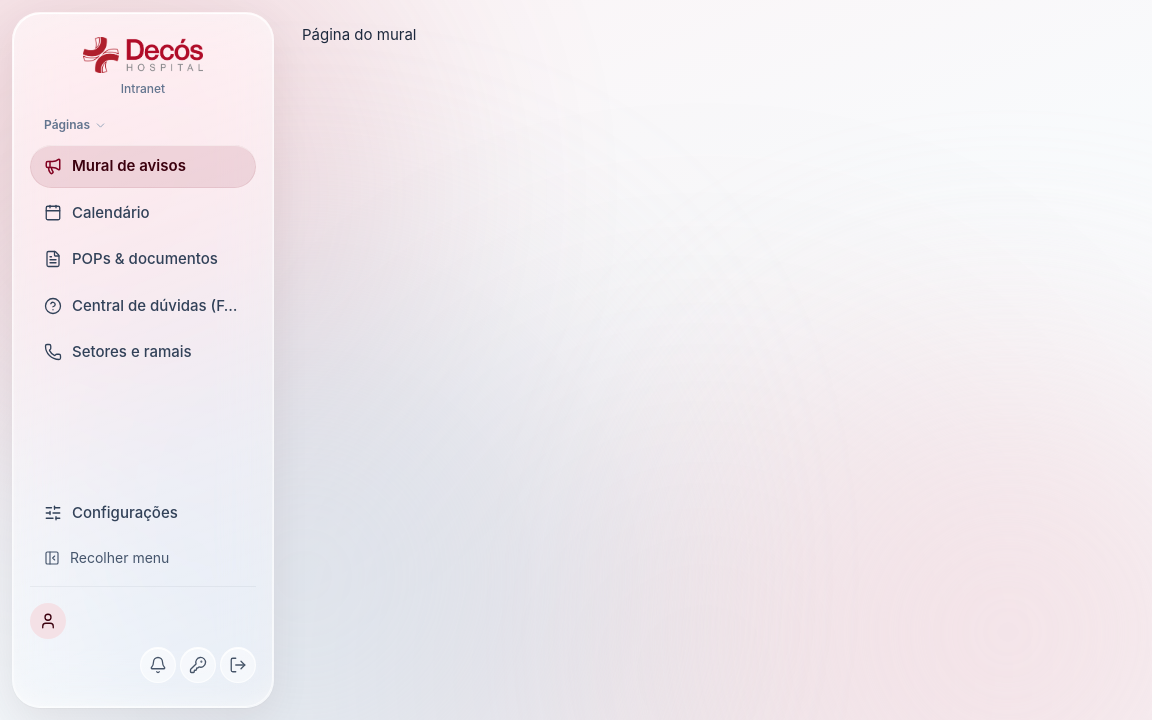
it: GER-17 — transição entre páginas › o menu lateral não é remontado e o indicador vai para o item da nova página
Click the button titled "Recolher menu" at (143, 558), box left=30, top=538, right=256, bottom=578
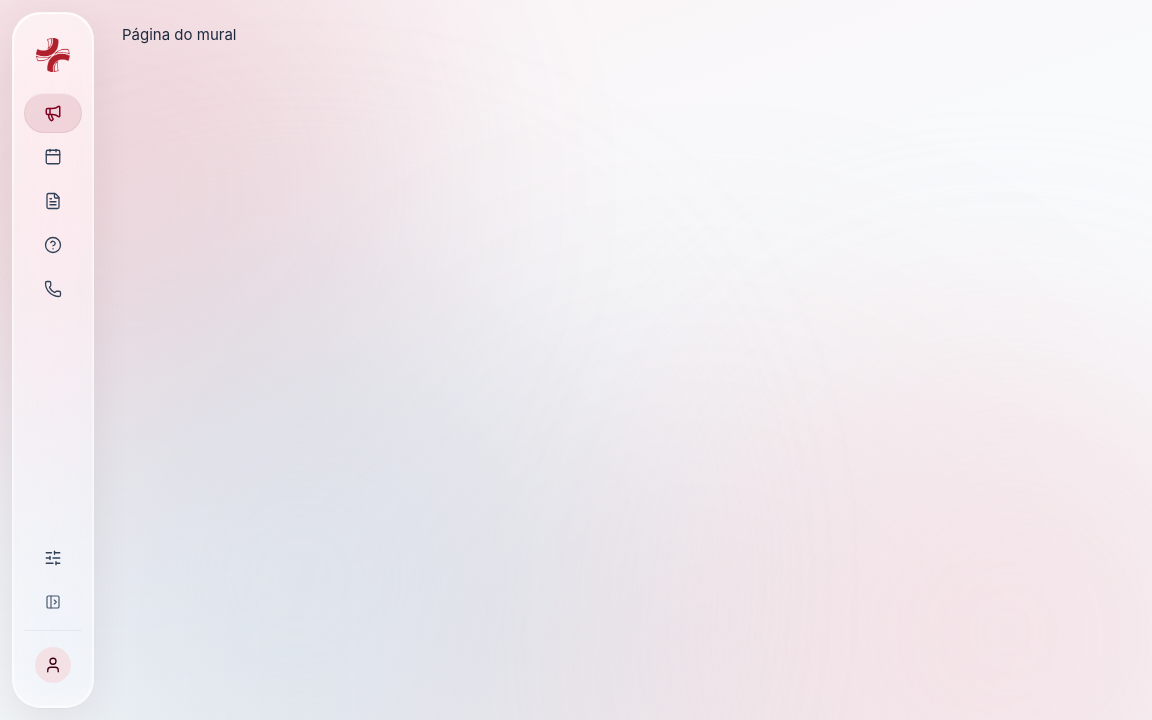
Click the link titled "POPs & documentos" at (53, 201), box left=44, top=192, right=62, bottom=210
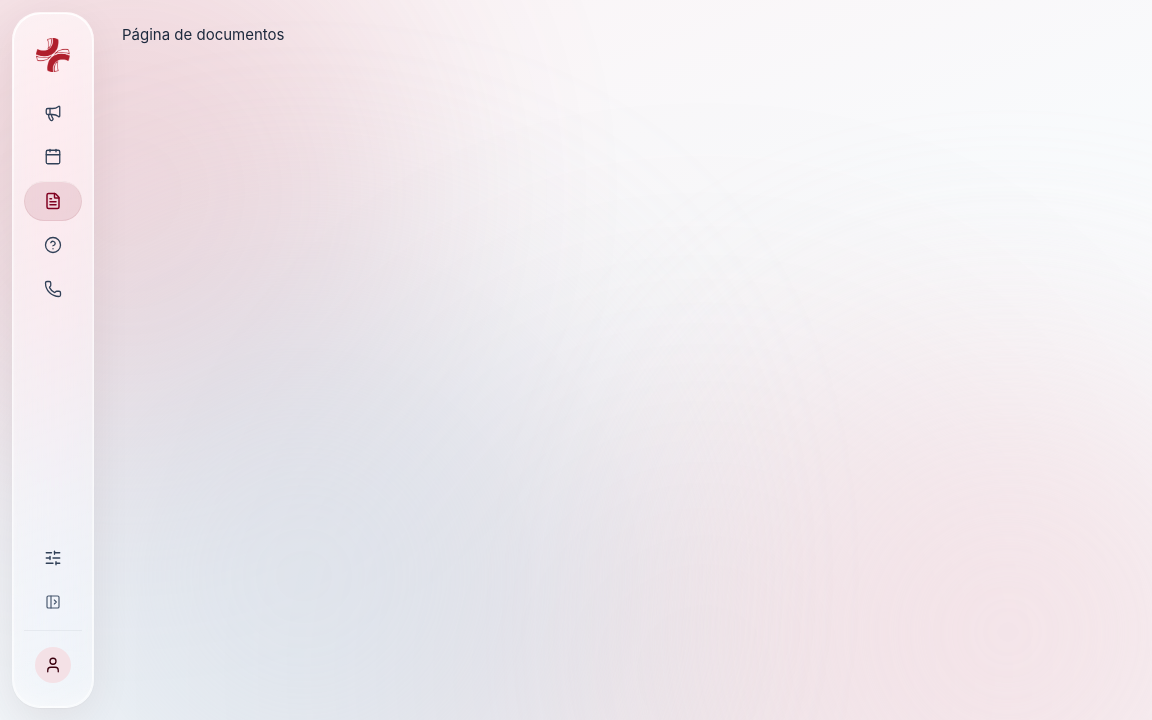
Expected: the button titled "Expandir menu" is shown, left=24, top=582, right=82, bottom=622
Expected: the text "Página de documentos" is shown, left=122, top=25, right=284, bottom=44
